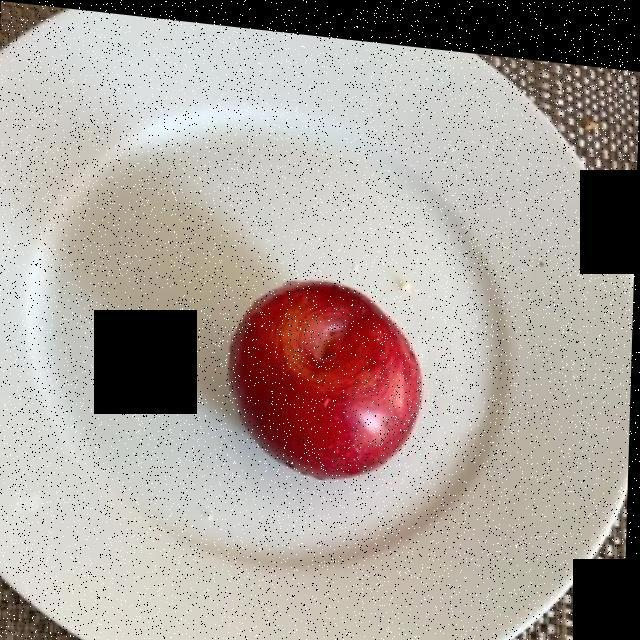plums: (227, 282, 411, 465)
